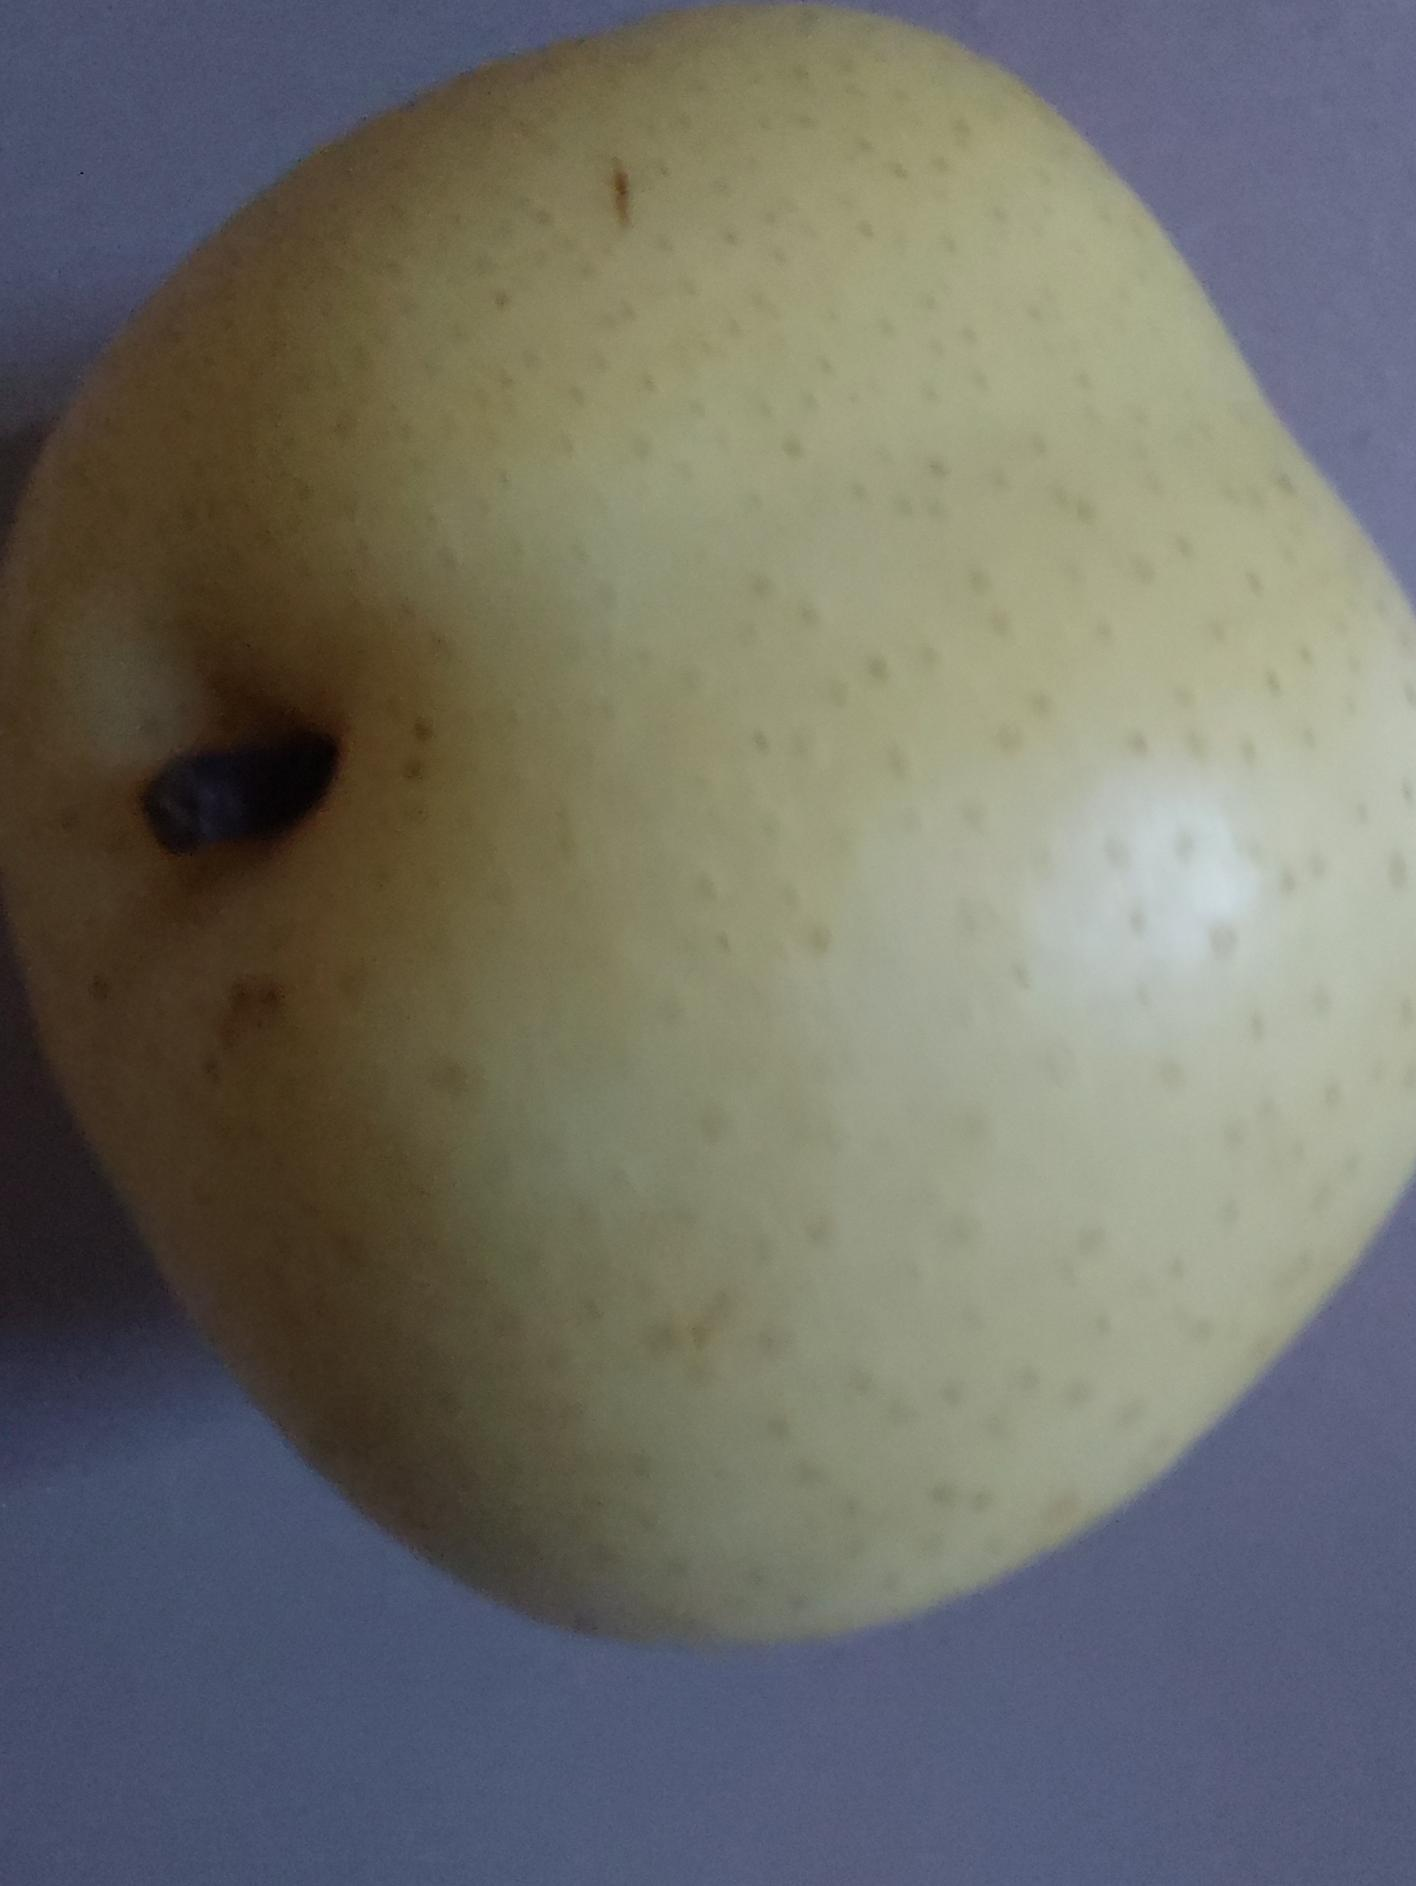Good Pear: (0, 0, 1416, 1719)
